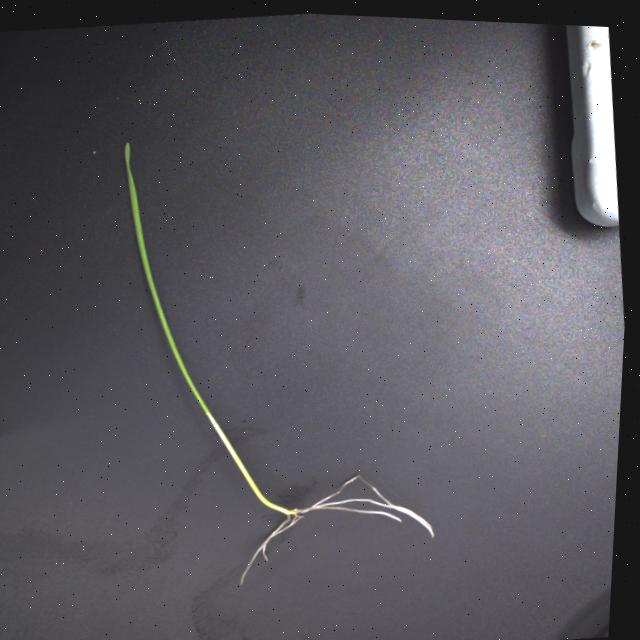leaf_w: (123, 144, 211, 417)
root_w: (300, 475, 432, 529), (297, 498, 433, 538), (240, 514, 289, 586), (261, 514, 305, 561), (299, 506, 401, 522)
stem_w: (207, 413, 296, 515)
